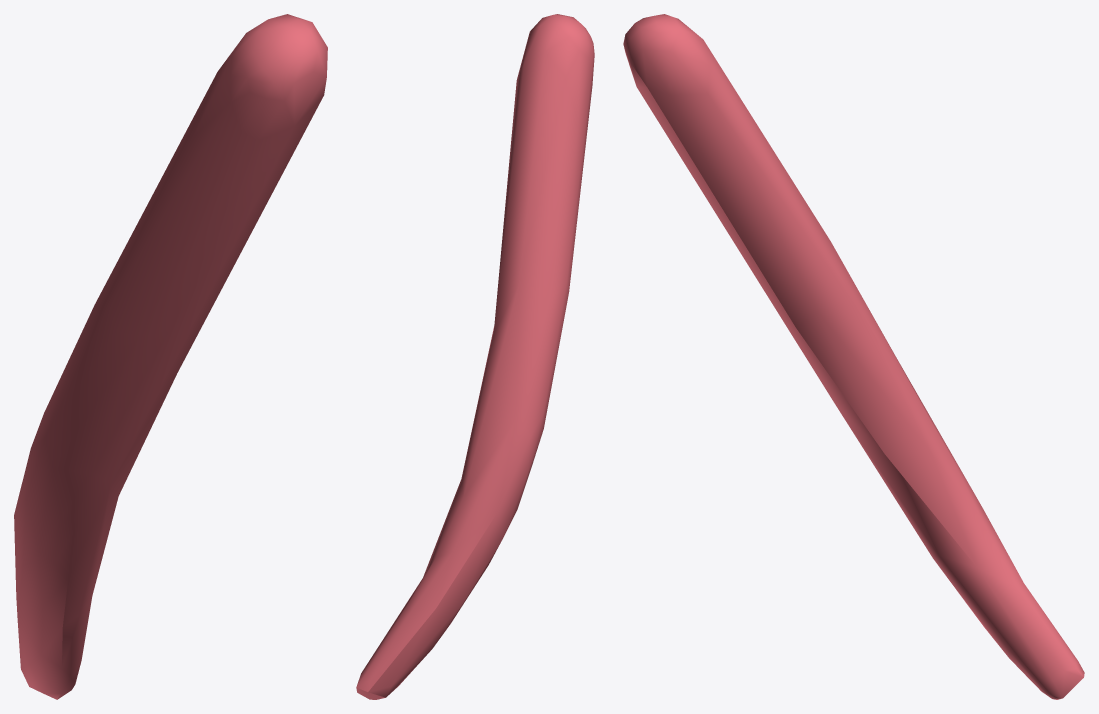
The model's file is fma9451_fj2946.glb.
3 views of the same model, side by side, from view 1: azimuth 30°, elevation 25°; view 2: azimuth 150°, elevation 25°; view 3: azimuth 270°, elevation 25° (orthographic). The views are drawn at different scales.
Parts seen in each view (by area): view 1: FMA9451_FJ2946; view 2: FMA9451_FJ2946; view 3: FMA9451_FJ2946.
Boxes of the visible parts, x1,y1,x2,y2 form: FMA9451_FJ2946: (14, 14, 327, 699); FMA9451_FJ2946: (356, 14, 594, 699); FMA9451_FJ2946: (623, 14, 1084, 699).
Bounding box in the file's own units: 0.00391 × 0.0207 × 0.0129.
